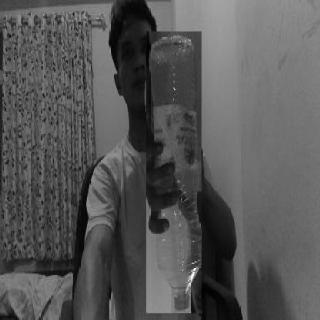plastic_bottles: (146, 32, 202, 313)
